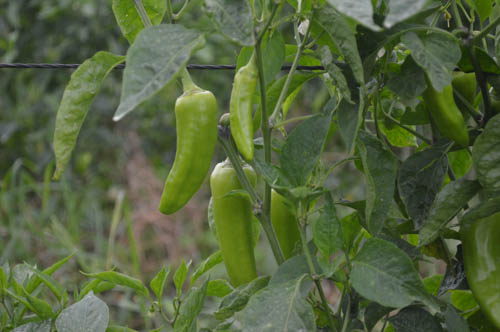ChiliPepper: (160, 92, 217, 221), (209, 163, 259, 292), (458, 205, 499, 330), (422, 66, 467, 146), (230, 67, 260, 166), (267, 187, 304, 261), (453, 68, 478, 115)
